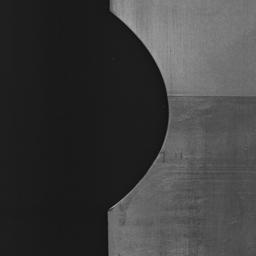Crescent gap: (110, 11, 169, 208)
